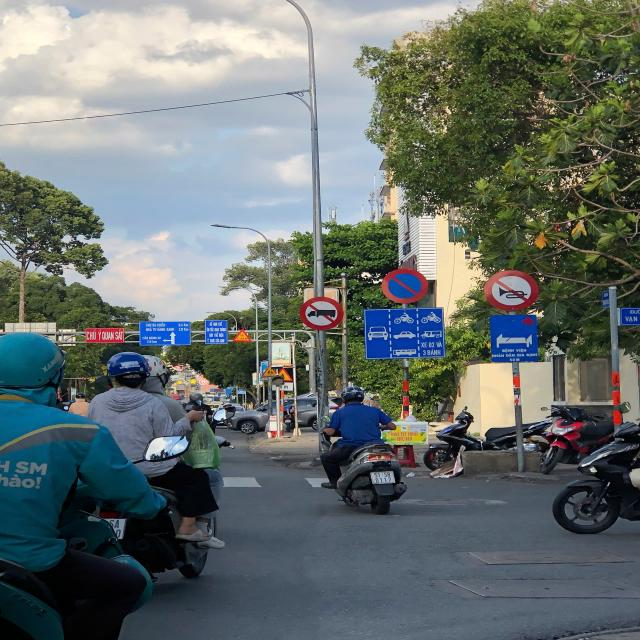Bien bao cam do xe: (378, 263, 432, 307)
Bien bao cam xe so-mi ro-mooc: (297, 294, 346, 332)
